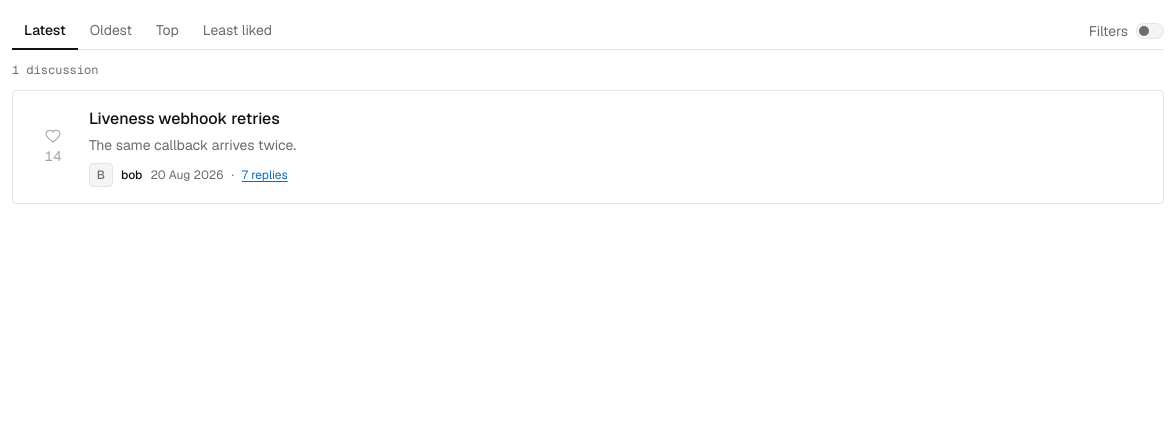
Test: replies in the list › closes again when the count is pressed a second time
Click the button "7 replies" at (265, 175), box top-left (242, 167), bottom-right (288, 183)
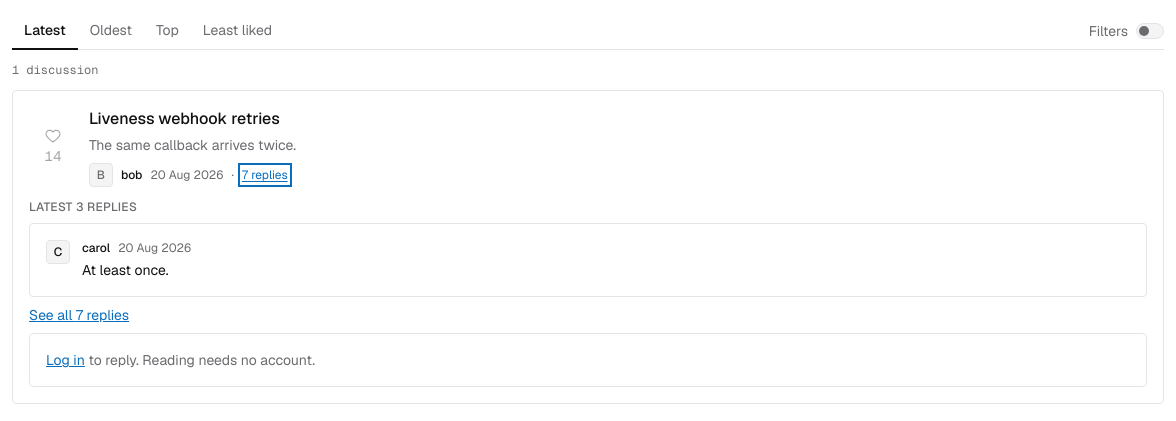
Result: the text "At least once." is shown at top-left (82, 261), bottom-right (169, 279)
Click the button "7 replies" at (265, 175), box top-left (242, 167), bottom-right (288, 183)
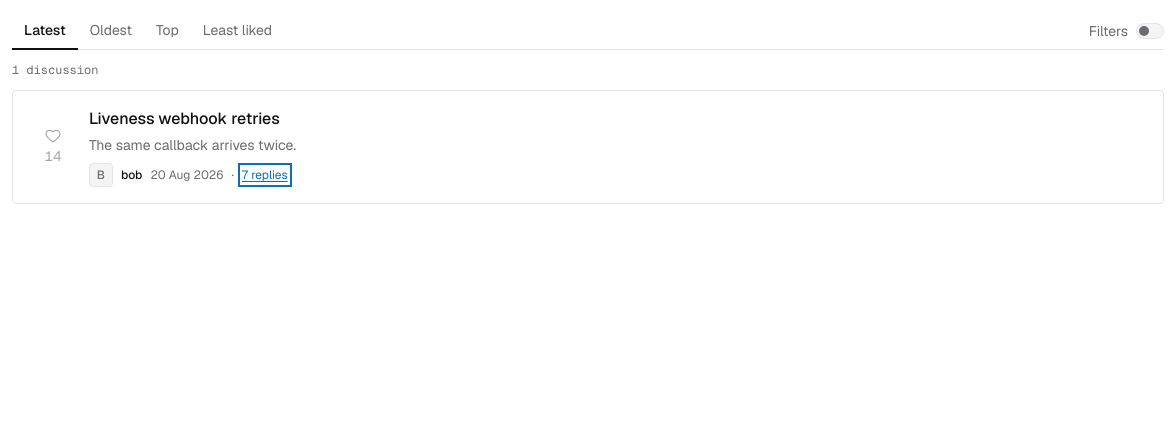
Result: the text "At least once." is gone
